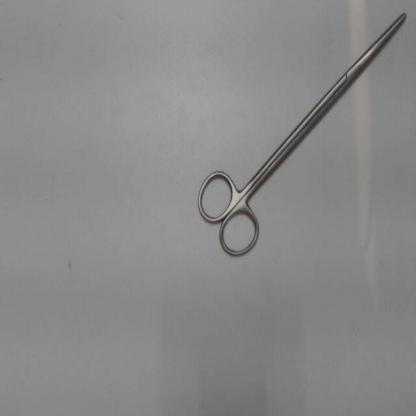9 Metzenbaum Scissors: (190, 8, 411, 268)
